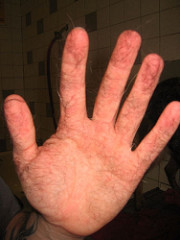palm: (34, 123, 135, 221)
